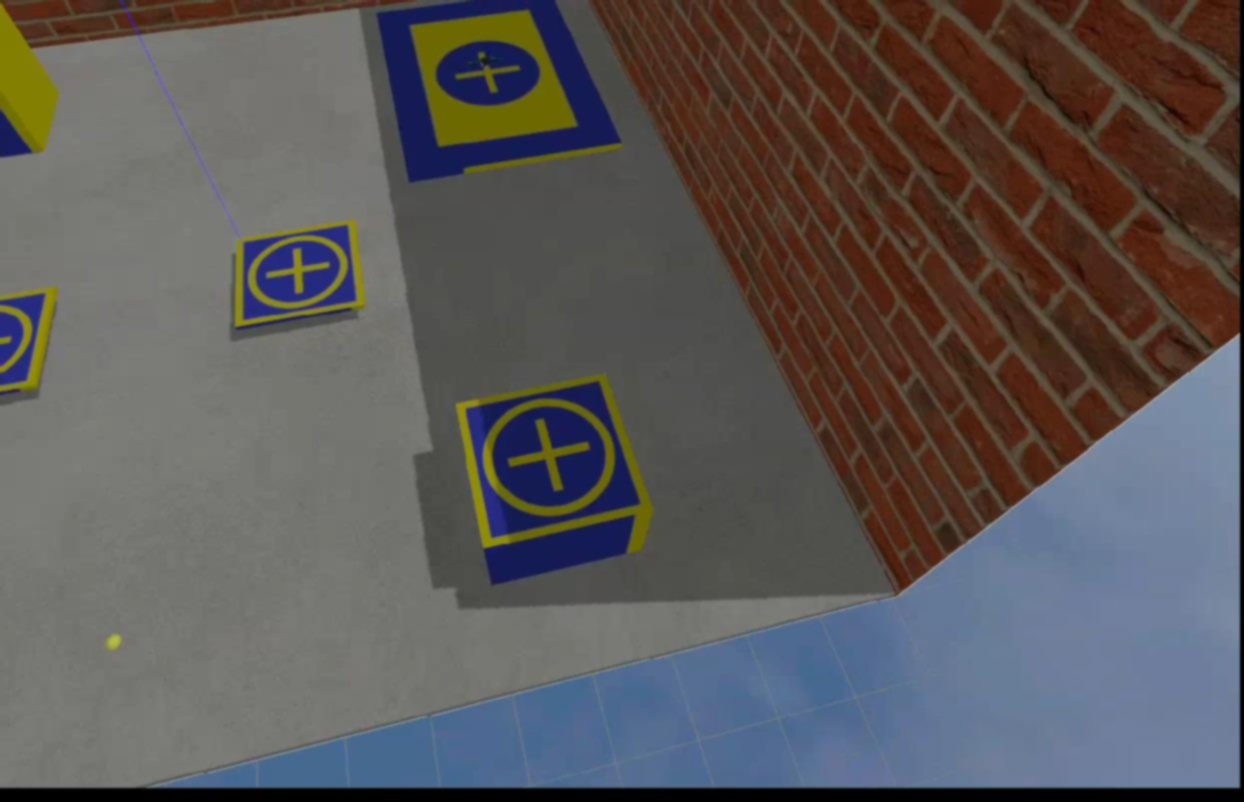large_base: (375, 2, 625, 183)
small_base: (455, 376, 657, 552), (230, 220, 366, 329), (0, 286, 59, 398)
